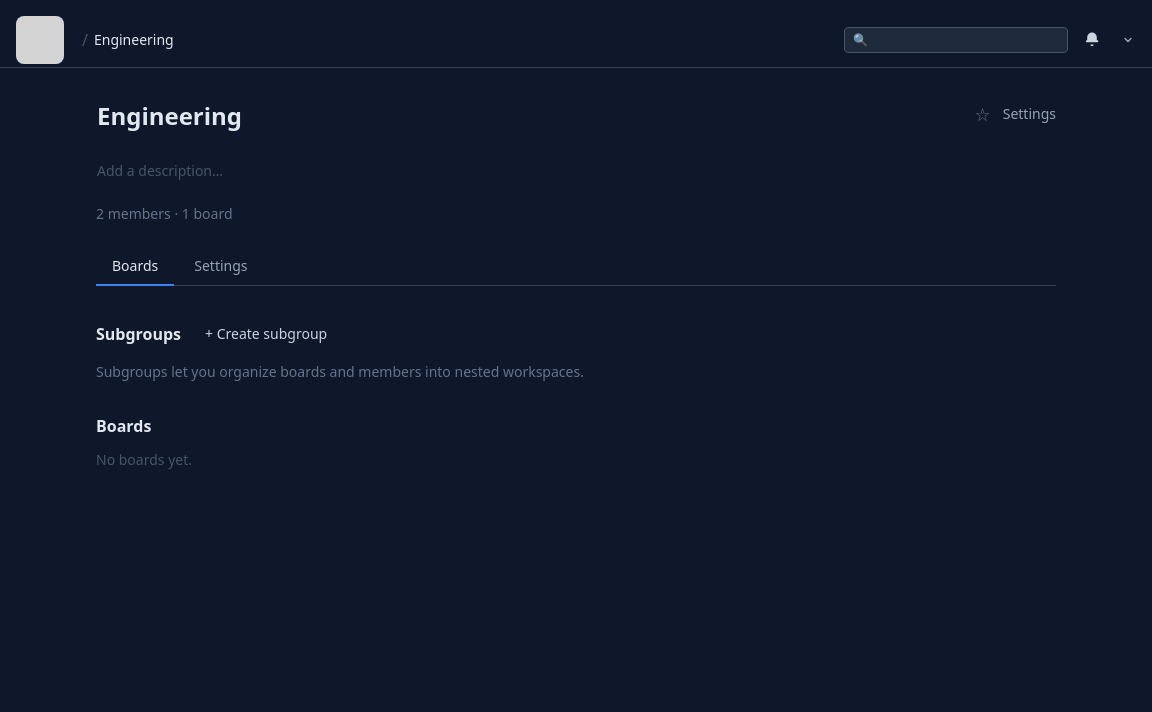
Test: GroupDetail › removes the member and shows no error when removal succeeds (#1386)
Click the 1st button "Settings" at (1029, 114), box 1003,104 -> 1056,124
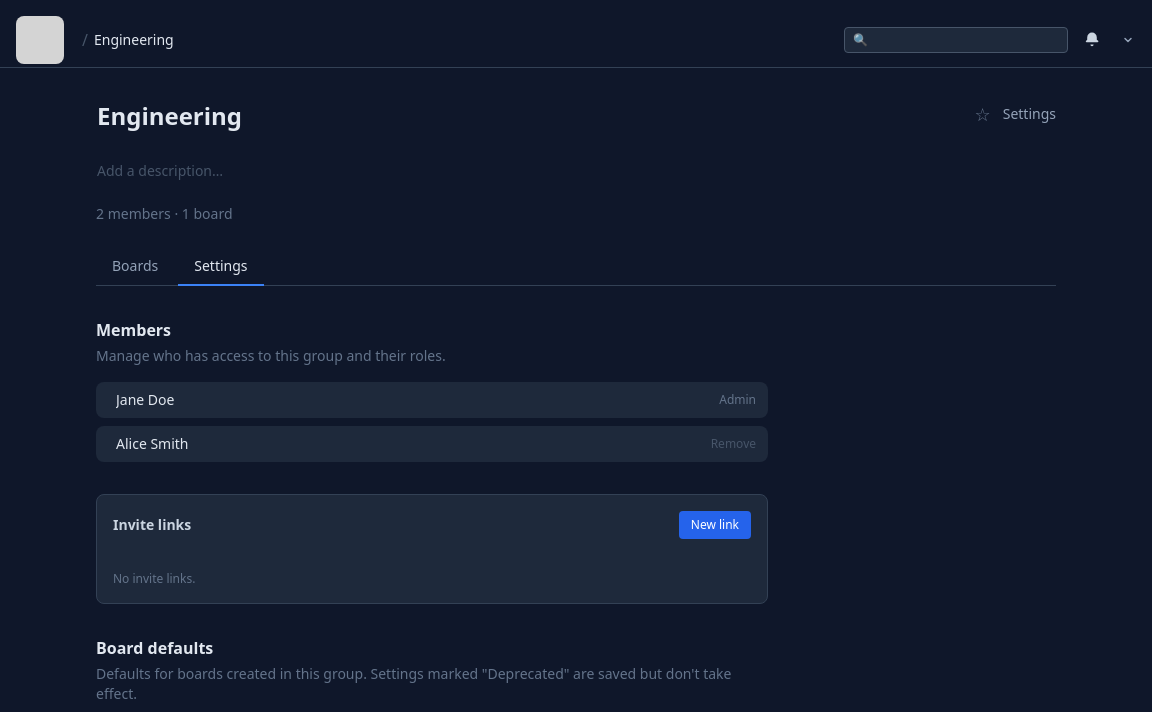
Result: the text "Alice Smith" is shown at 116,434 -> 188,454
Click the button with aria-label "Remove Alice Smith from group" at (733, 444), box 711,436 -> 756,452
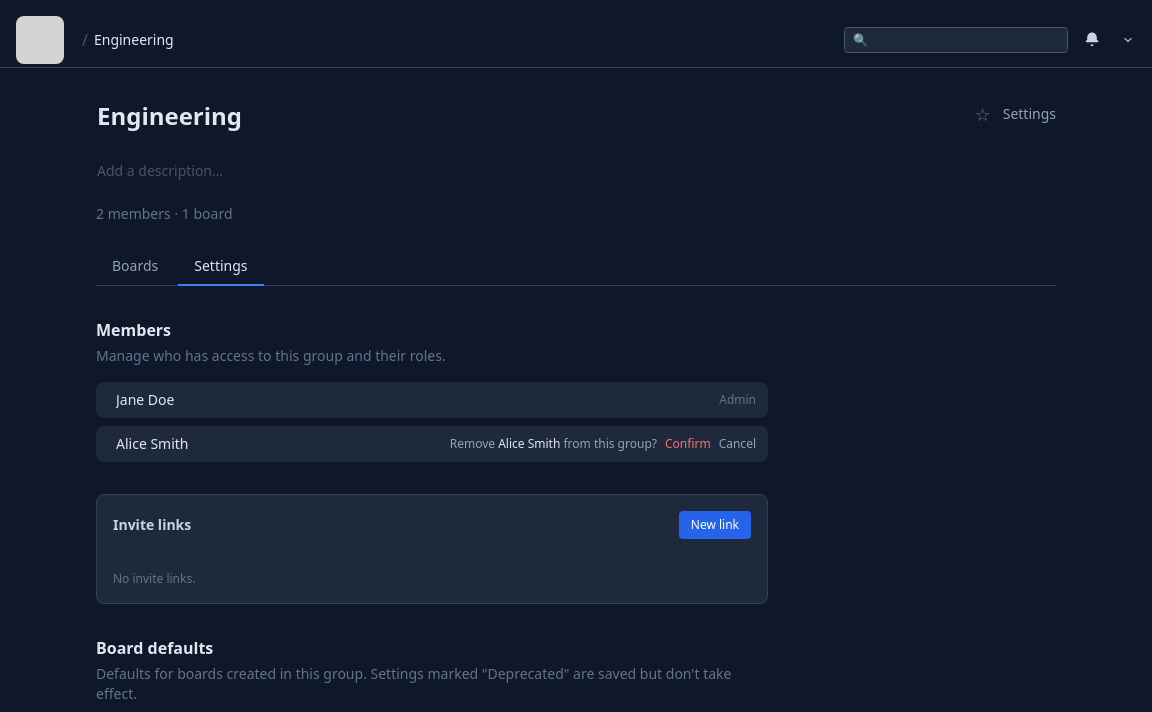
Click the button "Confirm" at (688, 444), box 665,436 -> 711,452
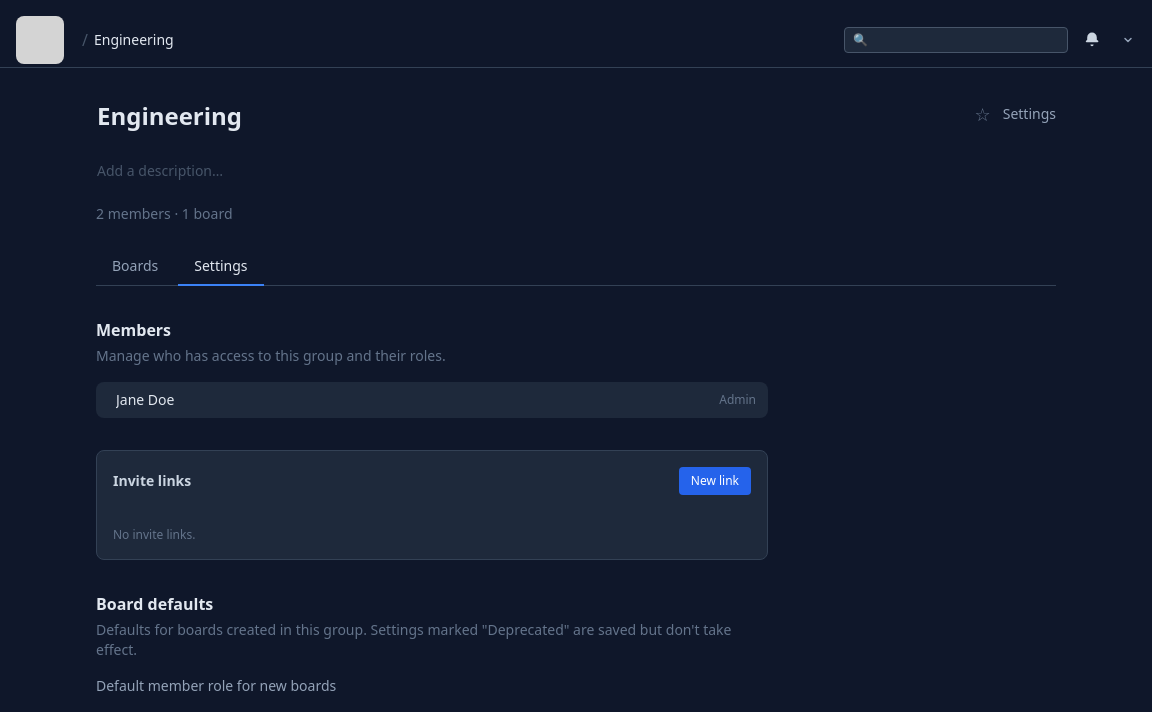
Result: the text "Alice Smith" is gone
